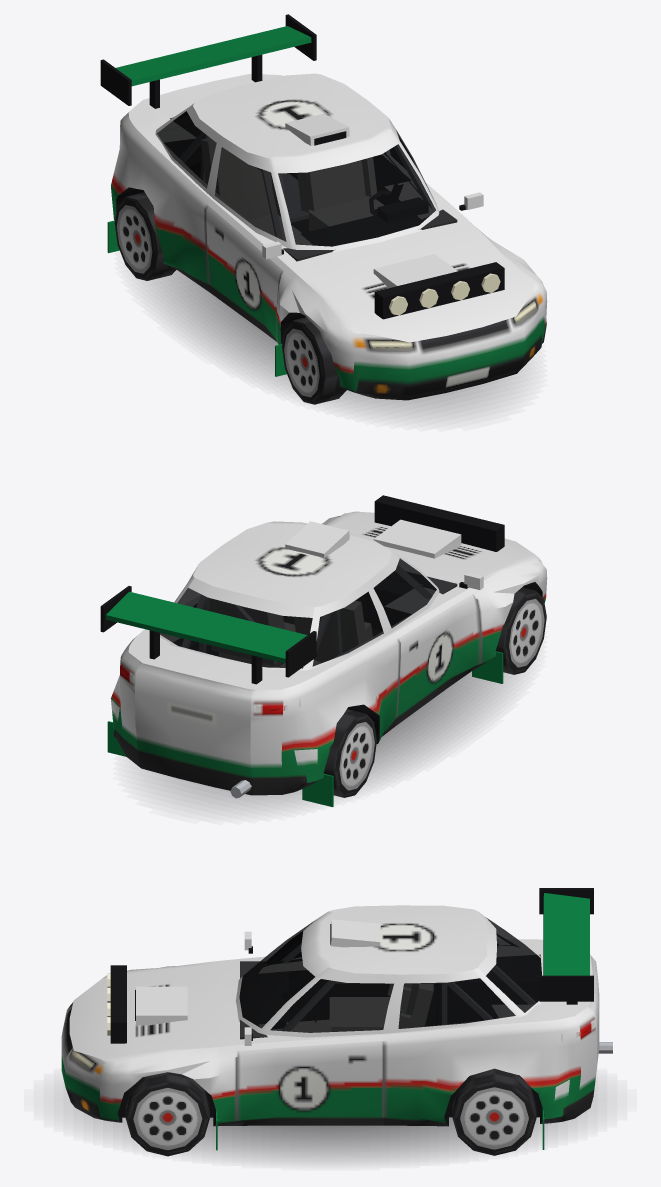
File: vendaval.glb
3 renders of one model, top to bottom at view 1: azimuth 30°, elevation 25°; view 2: azimuth 150°, elevation 25°; view 3: azimuth 270°, elevation 25°, orthographic. The views are drawn at different scales.
Visible parts, largest first — view 1: Carroceria, Capo_malha, Interior, Porta_D_malha, Sombra, Tampa_malha, Roda_DD, Roda_TD, Porta_E_malha; view 2: Carroceria, Tampa_malha, Porta_D_malha, Capo_malha, Sombra, Interior, Roda_TD, Roda_DD; view 3: Carroceria, Porta_E_malha, Interior, Capo_malha, Sombra, Tampa_malha, Roda_TE, Roda_DE, Porta_D_malha.
Boxes of the visible parts, x1,y1,x2,y2 form: Carroceria: (100, 14, 547, 400); Capo_malha: (302, 230, 533, 341); Interior: (165, 116, 457, 261); Porta_D_malha: (205, 142, 291, 340); Sombra: (145, 270, 522, 417); Tampa_malha: (116, 26, 311, 118); Roda_DD: (282, 317, 346, 404); Roda_TD: (114, 192, 176, 280); Porta_E_malha: (388, 118, 483, 212); Carroceria: (100, 511, 547, 806); Tampa_malha: (105, 578, 314, 775); Porta_D_malha: (375, 551, 483, 717); Capo_malha: (331, 495, 533, 579); Sombra: (142, 671, 515, 810); Interior: (173, 565, 457, 666); Roda_TD: (323, 709, 376, 797); Roda_DD: (495, 587, 546, 674); Carroceria: (61, 888, 612, 1150); Porta_E_malha: (237, 968, 384, 1120); Interior: (240, 934, 541, 1039); Capo_malha: (75, 963, 220, 1059); Sombra: (63, 1086, 597, 1161); Tampa_malha: (478, 893, 599, 1087); Roda_TE: (452, 1068, 536, 1155); Roda_DE: (125, 1072, 209, 1156); Porta_D_malha: (244, 931, 302, 963).
Bounding box in the file's own units: 2.52 × 1.42 × 4.65.
14 materials, 5 textured.
